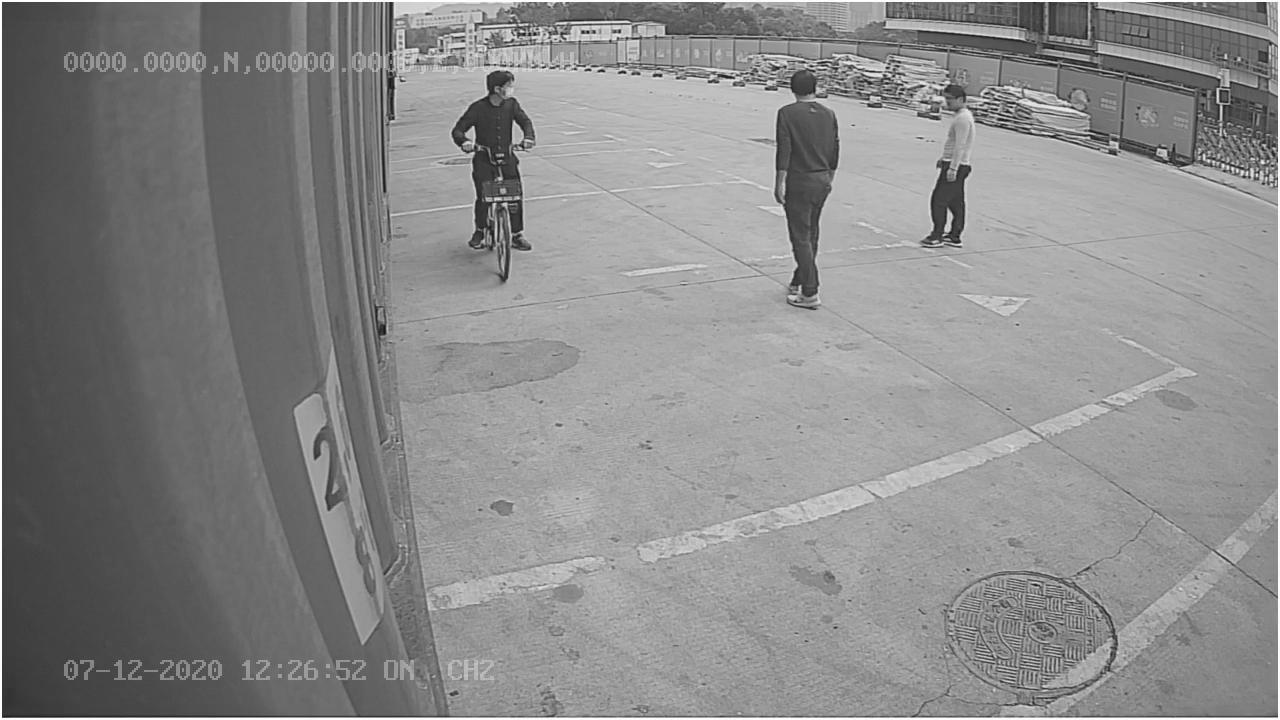person: (770, 67, 840, 310)
